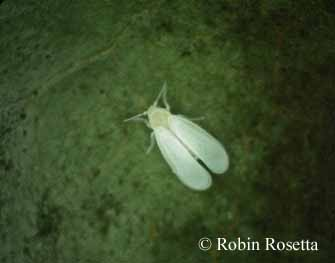Tobacco Whitefly: (112, 85, 239, 203)
